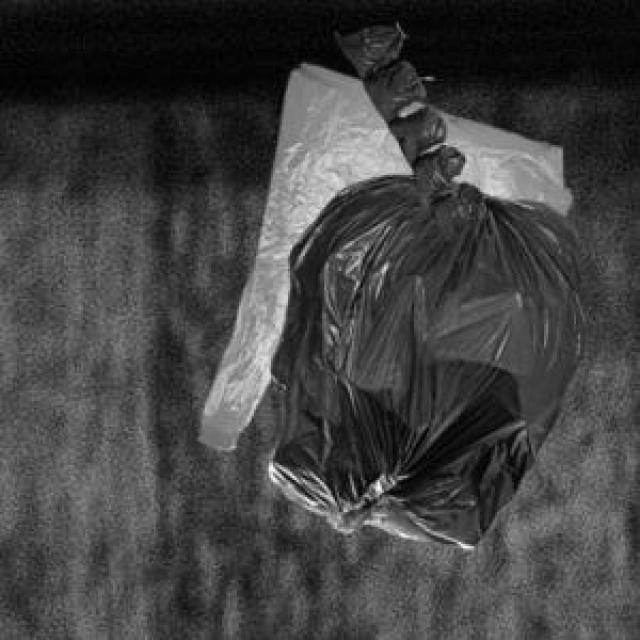miscellaneous trash: (265, 171, 580, 544), (332, 24, 480, 237)
